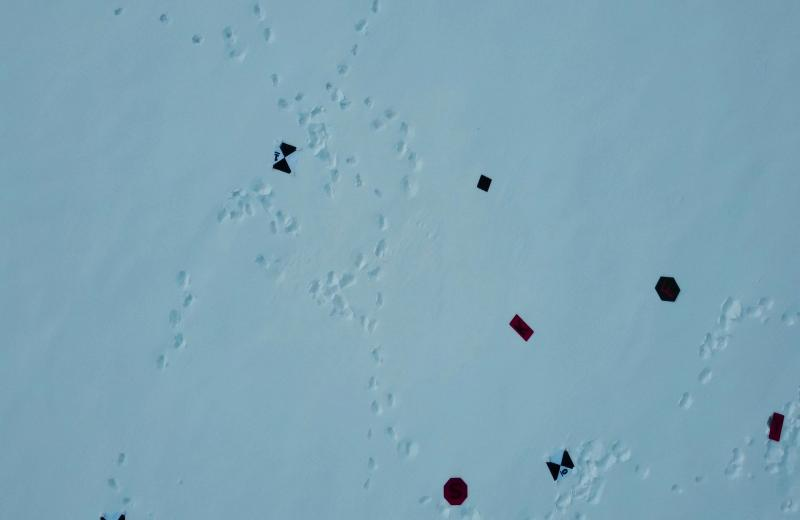Hexagon: (653, 272, 683, 308)
Octagon: (441, 470, 470, 505)
Rectangle: (507, 310, 536, 344), (762, 410, 790, 442)
Square: (471, 170, 494, 194)
